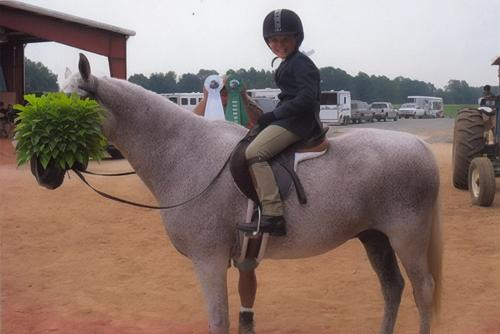car: (372, 102, 400, 123), (351, 101, 376, 124), (400, 102, 428, 119)
horse: (32, 58, 438, 334)
person: (238, 8, 330, 242)
person/foot: (236, 215, 285, 237)
person/hand: (256, 111, 275, 127)
person/head: (262, 9, 303, 55)
pottedplant: (15, 92, 107, 169)
